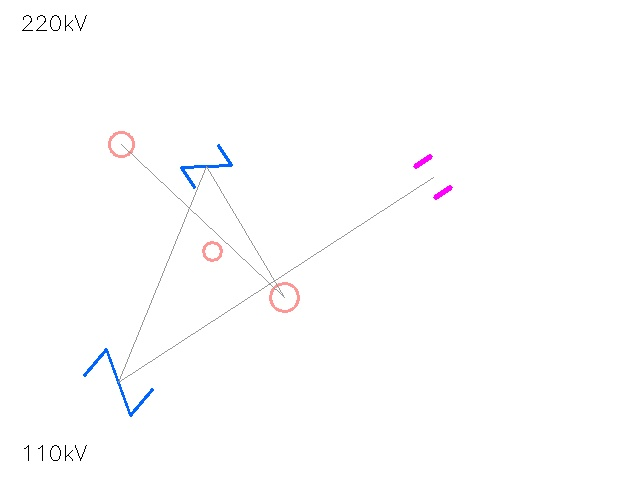capacitor: (402, 146, 464, 208)
circuit_breaker: (84, 348, 152, 416), (182, 142, 230, 190)
current_transformer: (193, 232, 231, 270)
feeder_terminal: (97, 120, 145, 168)
fuse: (255, 268, 313, 326)
